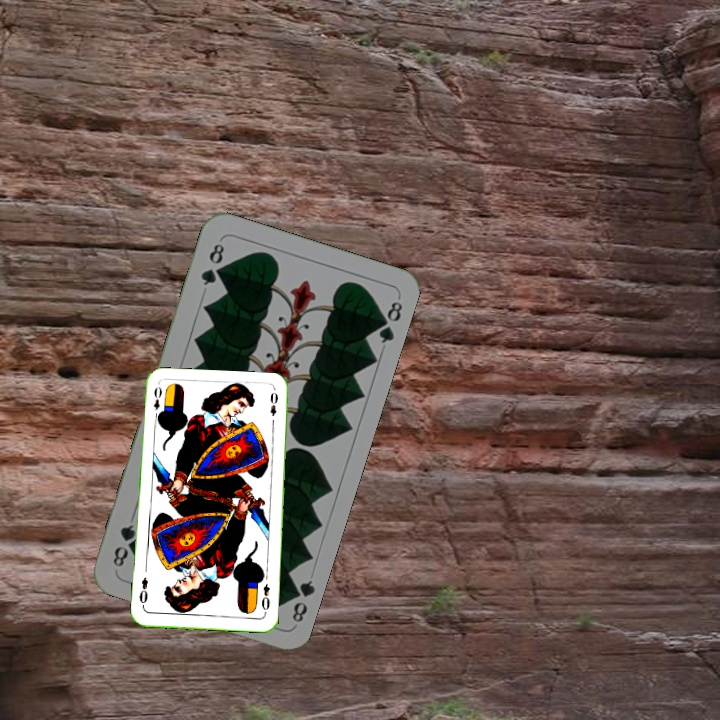EO: (258, 580, 273, 612), (150, 383, 164, 413)
G8: (284, 576, 317, 625), (196, 239, 227, 288)
